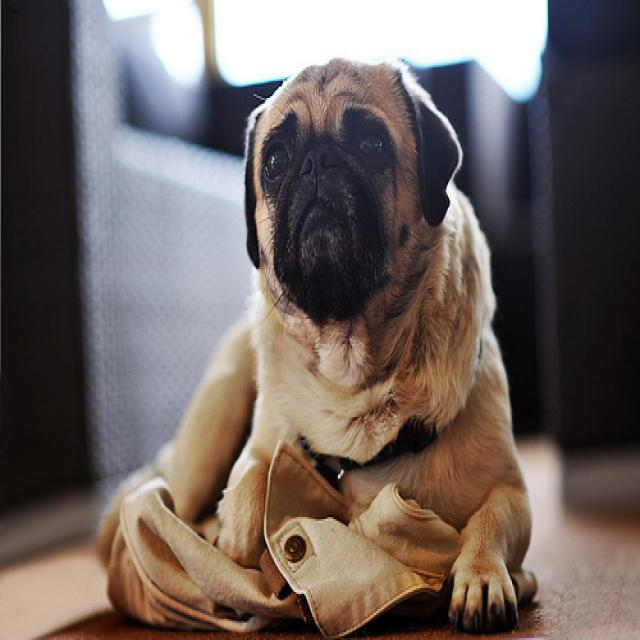dog-pug: (90, 50, 549, 636)
